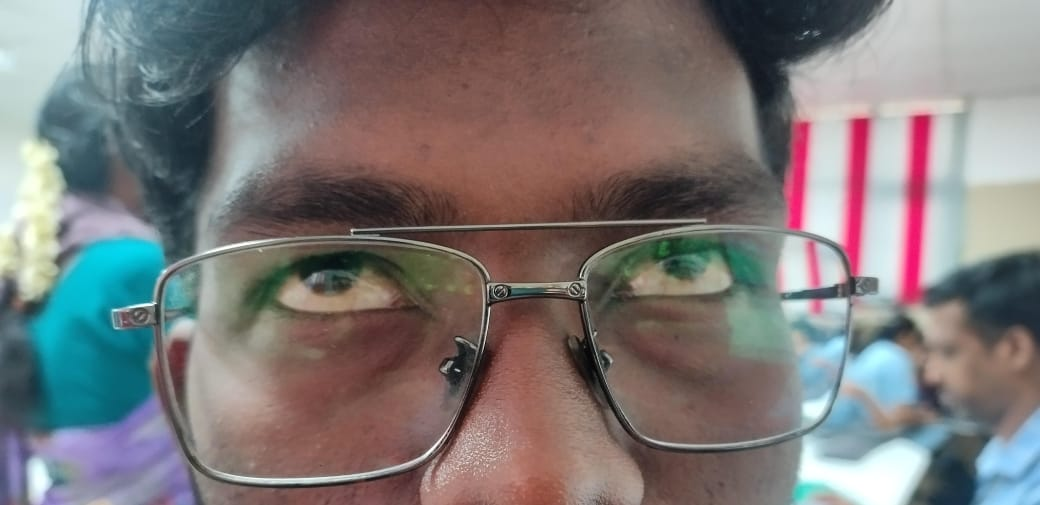EYE UP: (64, 207, 513, 480), (593, 212, 911, 475)
